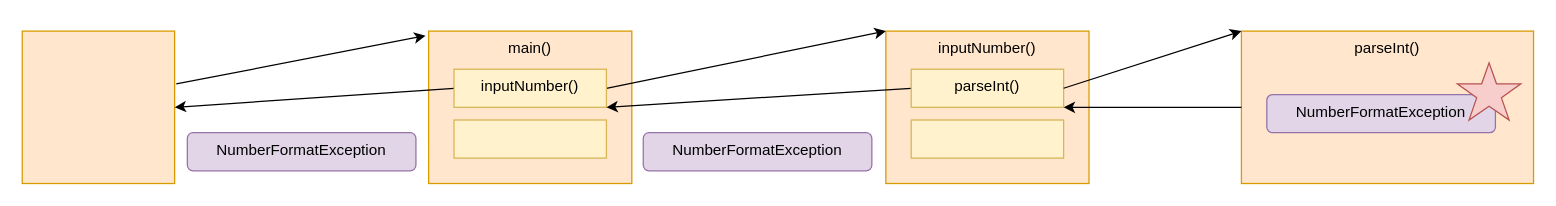
The diagram is 1556 pixels wide and 206 high, and some of its shapes have lost their labels. The centre of each missing label's shape, as x and y in pixels:
"JVM" goes at pixel 98 107.
"return" goes at pixel 987 138.
"System.out.println()" goes at pixel 529 138.
